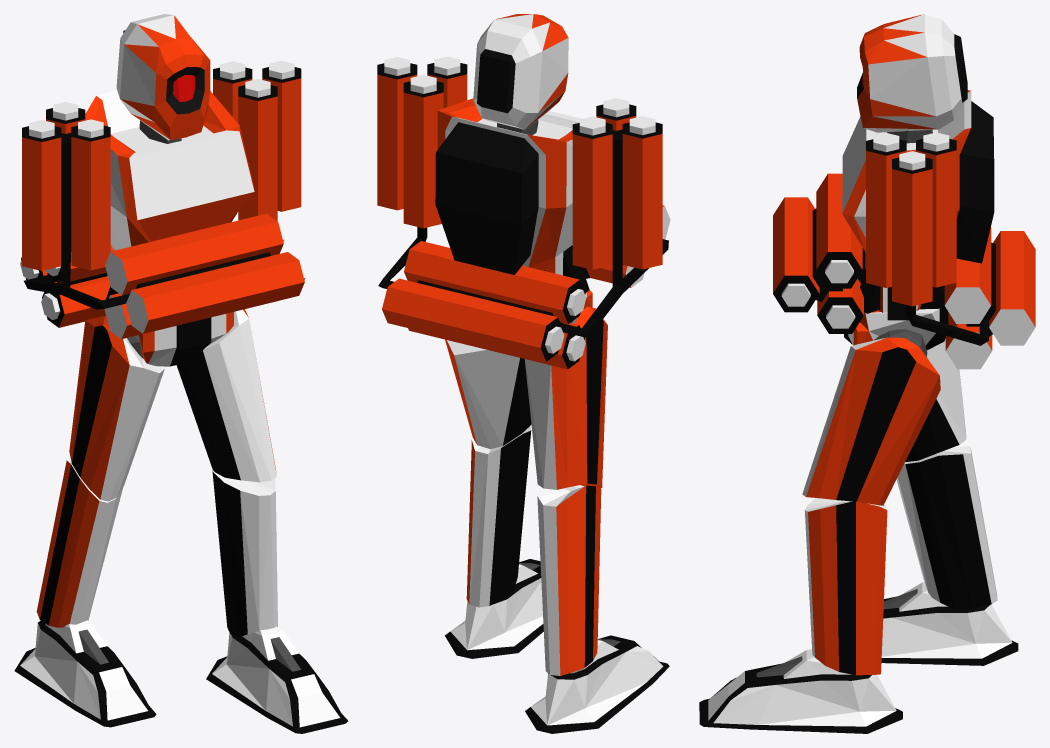
Rendered from robots_000000.obj.
3 renders of one model, left to right at view 1: azimuth 30°, elevation 25°; view 2: azimuth 150°, elevation 25°; view 3: azimuth 270°, elevation 25°, orthographic. The views are drawn at different scales.
Visible parts, largest first — view 1: Cylinder.004_Cylinder.006, Chest_plate_Cube.004, R_Thigh_Cube.005, R_Thigh.002_Cube.027, Head_base.002_Cube.030, R_Shin.002_Cube.029, R_Foot_Cube, R_Foot.002_Cube.035, R_Shin_Cube.007, Pelvis_Cube.006; view 2: Cylinder.004_Cylinder.006, Chest_plate_Cube.004, R_Shin_Cube.007, R_Thigh_Cube.005, Head_base.002_Cube.030, R_Shin.002_Cube.029, R_Foot_Cube, R_Thigh.002_Cube.027, R_Foot.002_Cube.035; view 3: Cylinder.004_Cylinder.006, R_Thigh.002_Cube.027, R_Shin.002_Cube.029, R_Shin_Cube.007, R_Foot.002_Cube.035, Head_base.002_Cube.030, Chest_plate_Cube.004, R_Foot_Cube, R_Thigh_Cube.005, Pelvis_Cube.006.
Part boxes in pixels (bbox=[...]): Cylinder.004_Cylinder.006: bbox=[20, 60, 305, 339]; Chest_plate_Cube.004: bbox=[85, 90, 254, 299]; R_Thigh_Cube.005: bbox=[69, 316, 164, 501]; R_Thigh.002_Cube.027: bbox=[176, 309, 276, 482]; Head_base.002_Cube.030: bbox=[116, 14, 210, 140]; R_Shin.002_Cube.029: bbox=[212, 469, 277, 637]; R_Foot_Cube: bbox=[14, 620, 156, 727]; R_Foot.002_Cube.035: bbox=[206, 626, 348, 733]; R_Shin_Cube.007: bbox=[36, 460, 123, 627]; Pelvis_Cube.006: bbox=[138, 312, 233, 366]; Cylinder.004_Cylinder.006: bbox=[377, 56, 670, 369]; Chest_plate_Cube.004: bbox=[435, 98, 590, 292]; R_Shin_Cube.007: bbox=[537, 485, 601, 675]; R_Thigh_Cube.005: bbox=[524, 306, 607, 489]; Head_base.002_Cube.030: bbox=[473, 14, 568, 129]; R_Shin.002_Cube.029: bbox=[466, 426, 531, 607]; R_Foot_Cube: bbox=[525, 635, 669, 733]; R_Thigh.002_Cube.027: bbox=[445, 339, 531, 448]; R_Foot.002_Cube.035: bbox=[445, 559, 543, 658]; Cylinder.004_Cylinder.006: bbox=[773, 132, 1035, 369]; R_Thigh.002_Cube.027: bbox=[802, 337, 940, 505]; R_Shin.002_Cube.029: bbox=[804, 498, 887, 675]; R_Shin_Cube.007: bbox=[896, 440, 997, 609]; R_Foot.002_Cube.035: bbox=[699, 649, 902, 733]; Head_base.002_Cube.030: bbox=[857, 14, 967, 132]; Chest_plate_Cube.004: bbox=[842, 90, 994, 320]; R_Foot_Cube: bbox=[881, 582, 1018, 665]; R_Thigh_Cube.005: bbox=[905, 338, 966, 461]; Pelvis_Cube.006: bbox=[844, 285, 948, 350].
Bounding box in the file's own units: 1.38 × 3.04 × 1.4.
